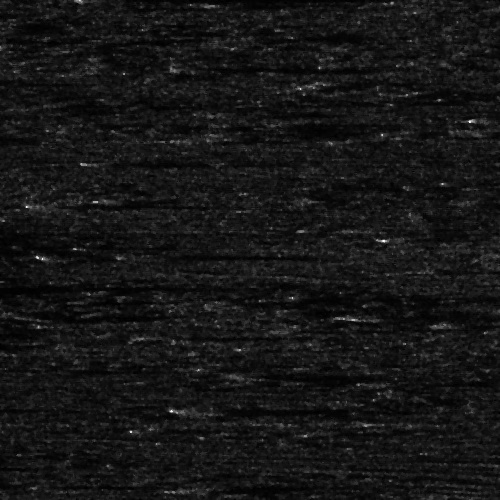object: (0, 196, 137, 209), (104, 251, 177, 258), (331, 313, 404, 320), (185, 403, 226, 412), (152, 65, 205, 70), (472, 115, 500, 122), (455, 125, 486, 130), (260, 374, 291, 377), (93, 0, 134, 1)
shadow: (0, 277, 263, 292), (64, 196, 227, 209), (206, 403, 385, 412), (141, 251, 307, 258), (368, 313, 500, 320), (179, 65, 349, 70), (276, 374, 456, 377), (0, 403, 42, 412), (113, 0, 342, 1), (471, 125, 500, 130)
